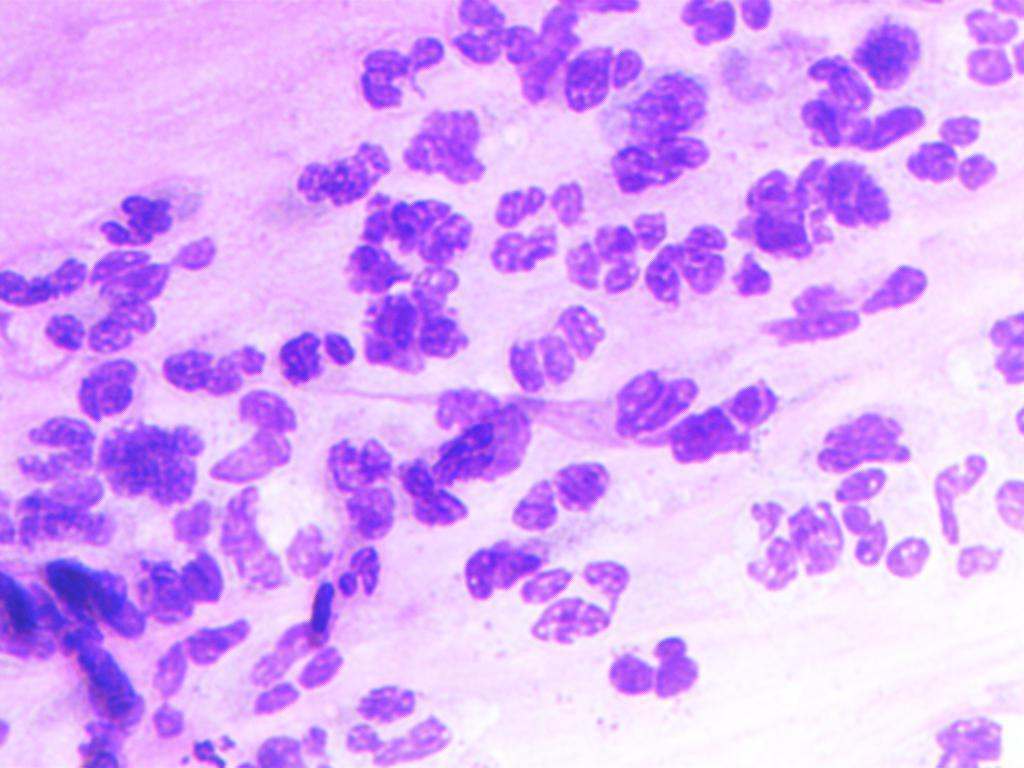artifact: (0, 564, 146, 761), (106, 421, 211, 518), (393, 108, 487, 192), (847, 12, 938, 91)
neutrophil: (729, 151, 892, 266), (749, 263, 956, 341), (537, 369, 711, 456), (929, 440, 1024, 594), (361, 259, 475, 387), (145, 607, 256, 738), (214, 474, 337, 592), (801, 54, 929, 161), (835, 460, 933, 597), (725, 490, 847, 600), (245, 607, 361, 718), (662, 374, 792, 472), (67, 171, 229, 249), (312, 426, 408, 557), (472, 180, 591, 280), (353, 179, 472, 277), (521, 548, 636, 648), (343, 686, 484, 766), (208, 387, 313, 491), (414, 410, 548, 491), (283, 551, 421, 625), (592, 64, 719, 144), (815, 394, 933, 479), (449, 0, 551, 98), (898, 118, 1024, 194), (499, 307, 621, 385), (89, 234, 220, 306), (2, 406, 109, 493), (141, 522, 221, 637), (286, 144, 411, 215), (503, 461, 618, 537), (551, 213, 646, 304), (610, 124, 725, 199), (26, 293, 149, 363), (638, 215, 722, 316), (662, 0, 808, 57), (352, 30, 453, 111), (600, 631, 712, 704), (163, 333, 281, 398), (565, 39, 663, 117), (0, 496, 124, 557), (270, 324, 381, 390), (61, 348, 152, 428), (919, 701, 1019, 768), (392, 449, 471, 527), (960, 0, 1024, 96), (0, 234, 89, 303), (456, 539, 550, 602), (986, 307, 1024, 411)
